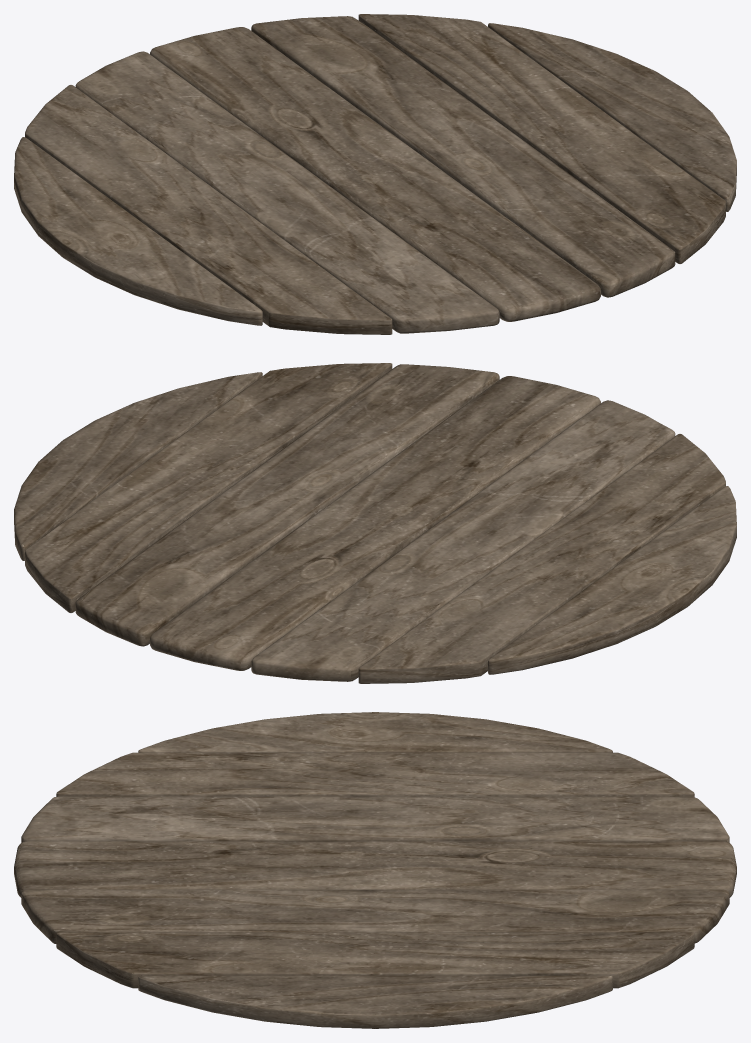
Rendered from round_bevel.glb.
The picture shows the model from 3 angles, top to bottom: view 1: azimuth 30°, elevation 25°; view 2: azimuth 150°, elevation 25°; view 3: azimuth 270°, elevation 25°; orthographic projection.
Visible parts, largest first — view 1: round_bevel; view 2: round_bevel; view 3: round_bevel.
Part boxes in pixels (box(x1,y1,x2,y2)): round_bevel: box(14, 14, 736, 334); round_bevel: box(14, 363, 736, 683); round_bevel: box(14, 712, 736, 1028).
Bounding box in the file's own units: 1.97 × 0.0487 × 1.98.
Materials: 1 (1 with a texture image).
